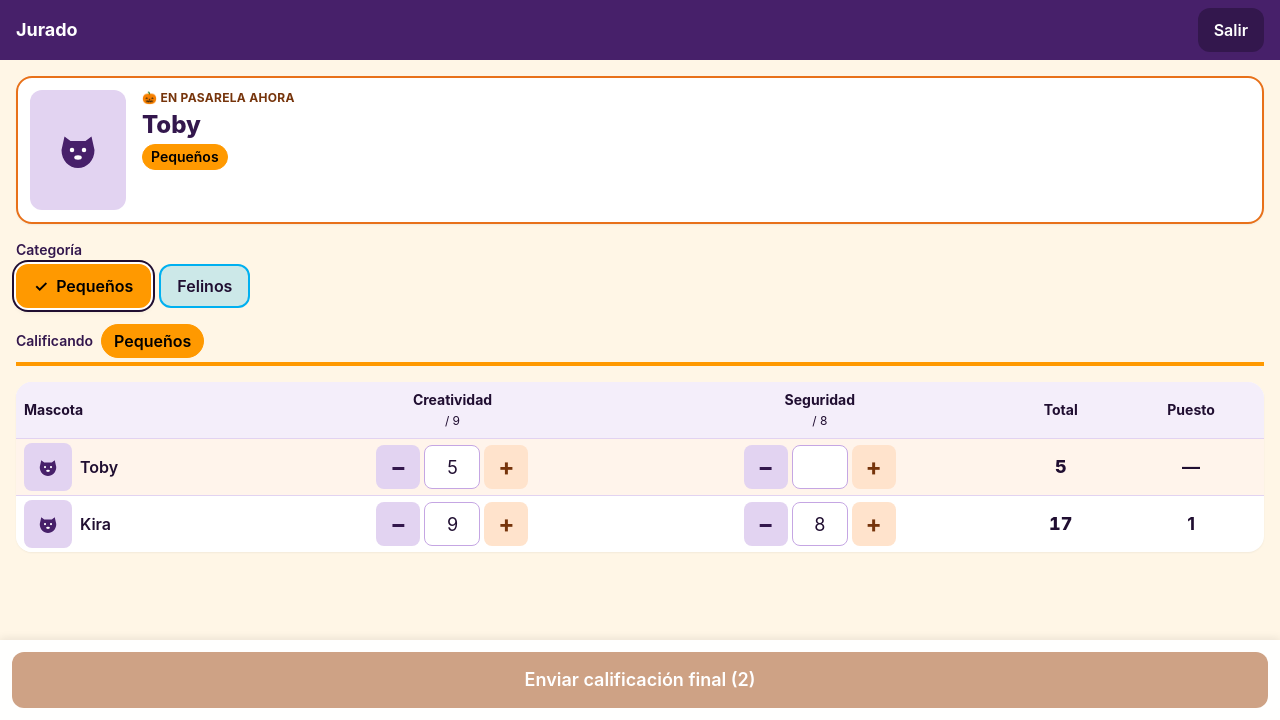
Scenario: empates en el puesto tentativo se marcan con "="
Replace the text in the field with test id "celda-t-1" with "9": (452, 467) [424,445,480,489]
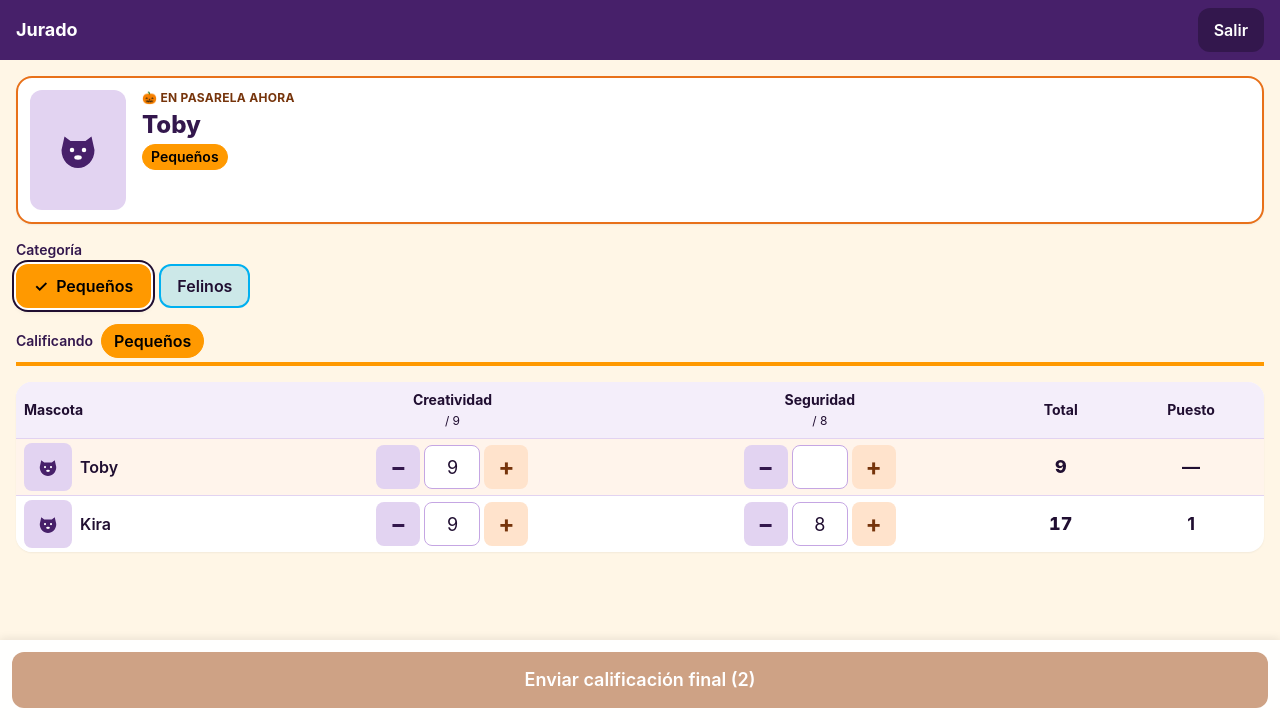
In the field with test id "celda-t-2": (820, 467) [792,445,848,489], type "8"
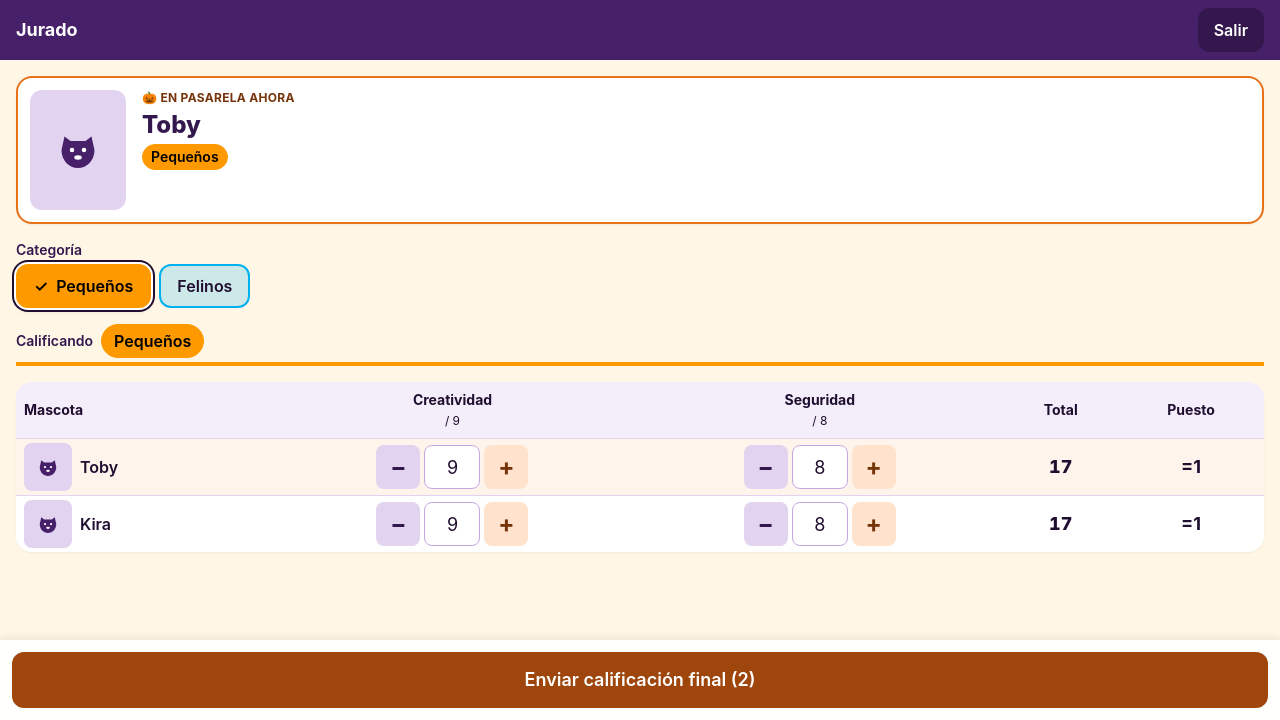
Expected: the cell with test id "puesto-t" reads "=1", [1181,456,1201,477]
Expected: the cell with test id "puesto-k" reads "=1", [1181,513,1201,534]
